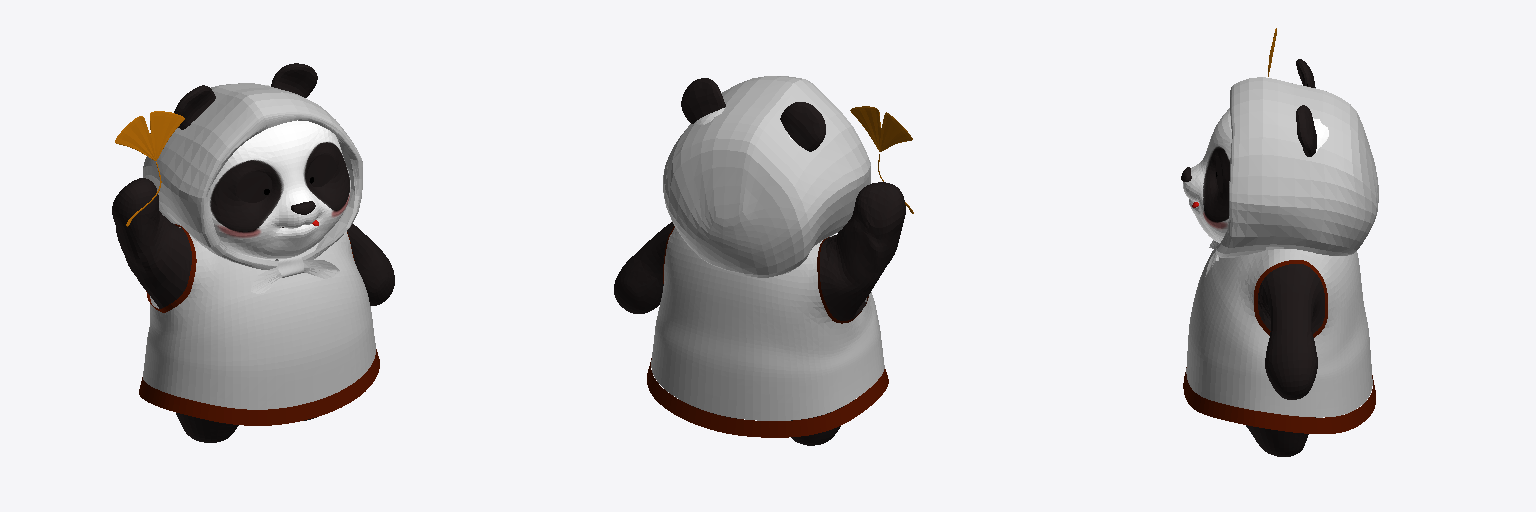
3 renders of one model, left to right at view 1: azimuth 30°, elevation 25°; view 2: azimuth 150°, elevation 25°; view 3: azimuth 270°, elevation 25°, orthographic.
Visible parts, largest first — view 1: panda_body007.002, panda_body007.004, 柱体, panda_body007.001, panda_body007.003, 平面.003, panda_body007.011; view 2: panda_body007.002, 柱体, panda_body007.001, panda_body007.003, panda_body007.004, 平面.003; view 3: 柱体, panda_body007.002, panda_body007.001, panda_body007.004, panda_body007.003, panda_body007.011.
Boxes of the visible parts, box(x1,y1,x2,y2) form: panda_body007.002: box(143, 224, 375, 409); panda_body007.004: box(174, 63, 350, 258); 柱体: box(143, 83, 362, 293); panda_body007.001: box(112, 178, 394, 442); panda_body007.003: box(139, 349, 379, 425); 平面.003: box(115, 111, 184, 226); panda_body007.011: box(146, 224, 354, 312); panda_body007.002: box(651, 228, 884, 420); 柱体: box(663, 76, 870, 277); panda_body007.001: box(614, 182, 905, 445); panda_body007.003: box(647, 358, 888, 437); panda_body007.004: box(681, 78, 825, 151); 平面.003: box(850, 106, 913, 213); 柱体: box(1205, 77, 1378, 276); panda_body007.002: box(1186, 249, 1372, 417); panda_body007.001: box(1246, 264, 1324, 456); panda_body007.004: box(1183, 59, 1328, 250); panda_body007.003: box(1183, 367, 1375, 433); panda_body007.011: box(1254, 260, 1327, 337).
Bounding box in the file's own units: 7.54 × 8.67 × 4.5.
Materials: 8 (1 with a texture image).